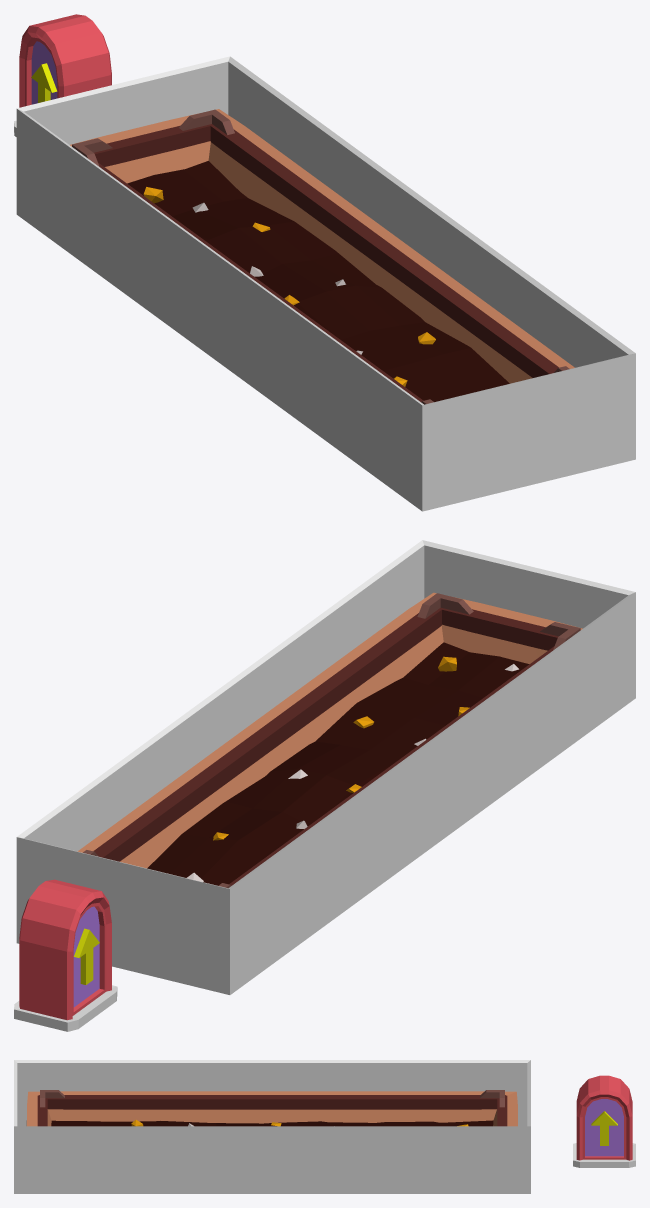
Rendered from dirt_row.fbx.
3 renders of one model, top to bottom at view 1: azimuth 30°, elevation 25°; view 2: azimuth 150°, elevation 25°; view 3: azimuth 270°, elevation 25°, orthographic. The views are drawn at different scales.
Visible parts, largest first — view 1: Forcefield, DirtRow, DirtRowDesert, Upgrades, GoldTraces; view 2: Forcefield, DirtRow, DirtRowDesert, Upgrades; view 3: Forcefield, DirtRow, DirtRowDesert, Upgrades.
Boxes of the visible parts, x1=… form: Forcefield: x1=16, y1=56, x2=635, y2=511; DirtRow: x1=72, y1=109, x2=569, y2=404; DirtRowDesert: x1=70, y1=109, x2=574, y2=383; Upgrades: x1=14, y1=14, x2=111, y2=136; GoldTraces: x1=143, y1=187, x2=435, y2=386; Forcefield: x1=16, y1=540, x2=635, y2=994; DirtRow: x1=83, y1=593, x2=580, y2=888; DirtRowDesert: x1=77, y1=592, x2=582, y2=868; Upgrades: x1=14, y1=879, x2=117, y2=1031; Forcefield: x1=14, y1=1060, x2=530, y2=1193; DirtRow: x1=37, y1=1090, x2=507, y2=1126; DirtRowDesert: x1=26, y1=1091, x2=517, y2=1126; Upgrades: x1=573, y1=1075, x2=635, y2=1167.
Bounding box in the file's own units: 332 × 182 × 1314.
